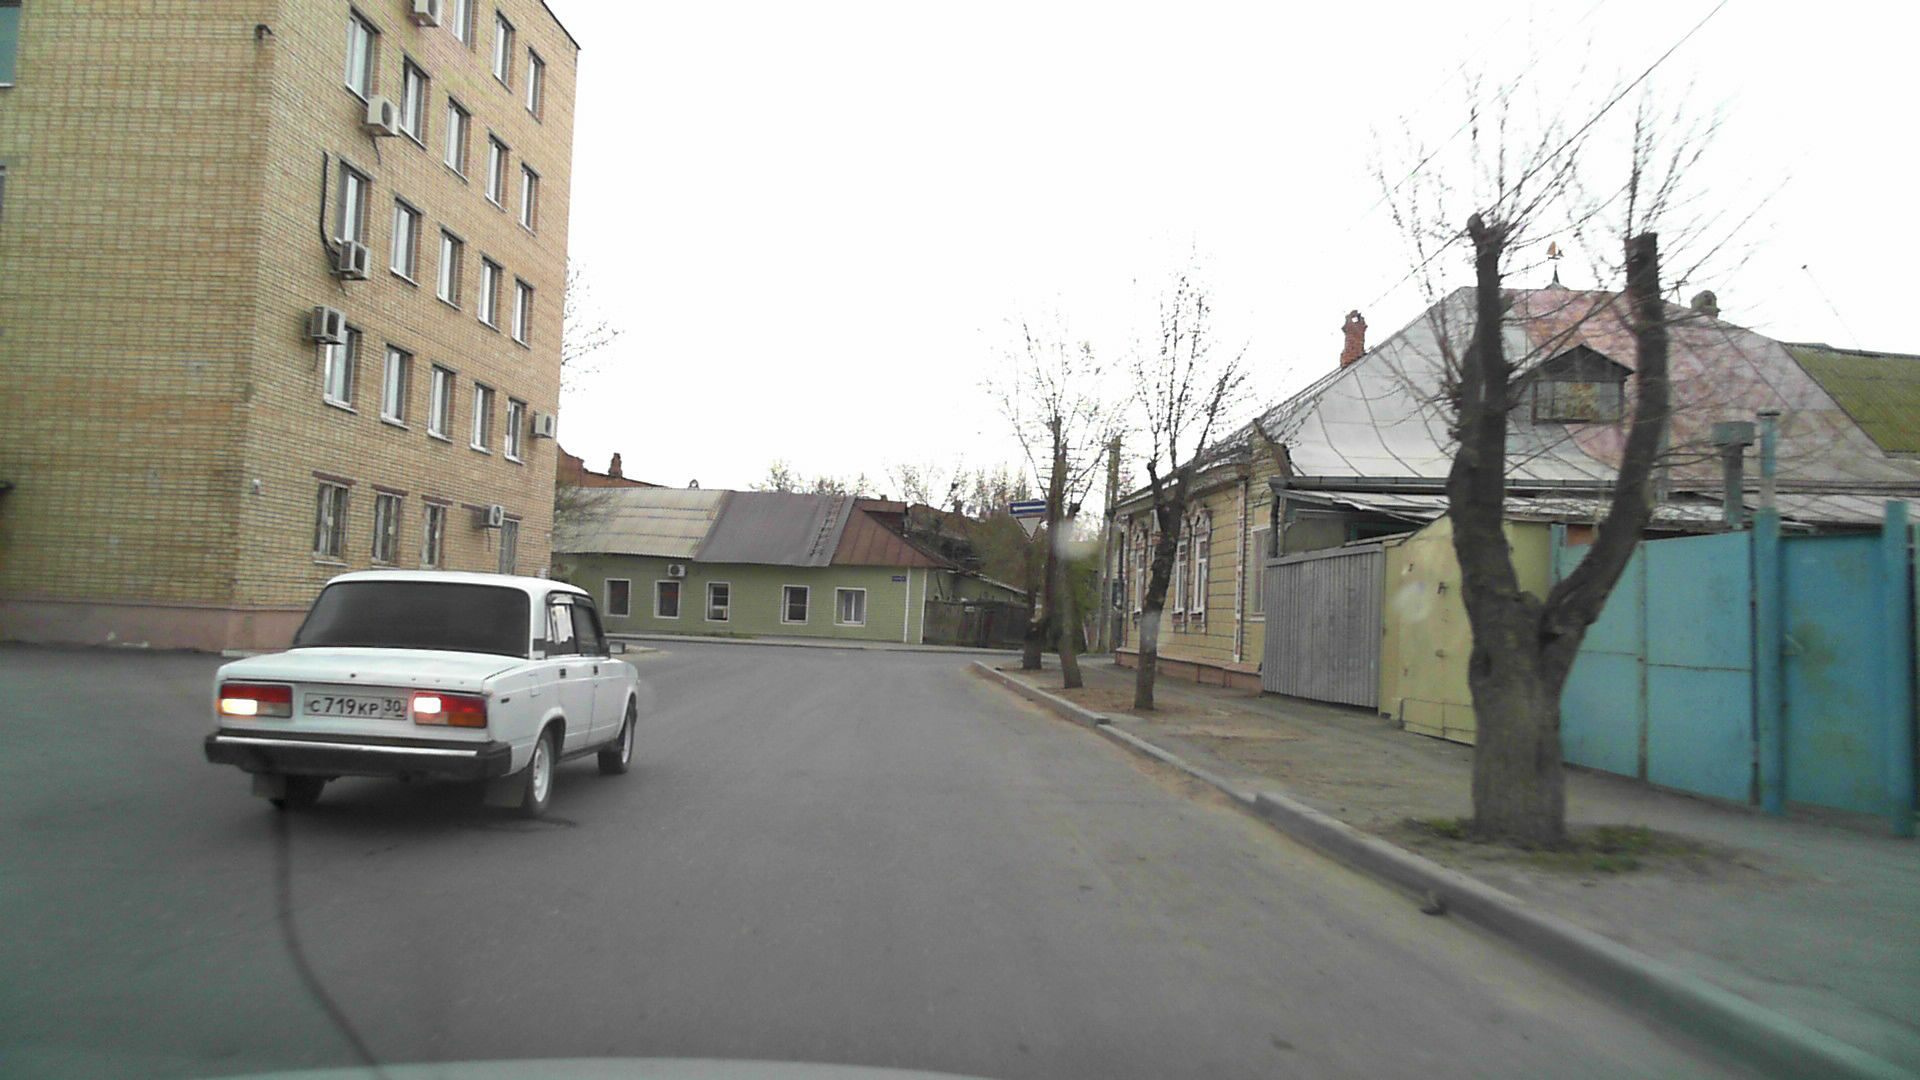One-Way Traffic: (1010, 500, 1047, 514)
